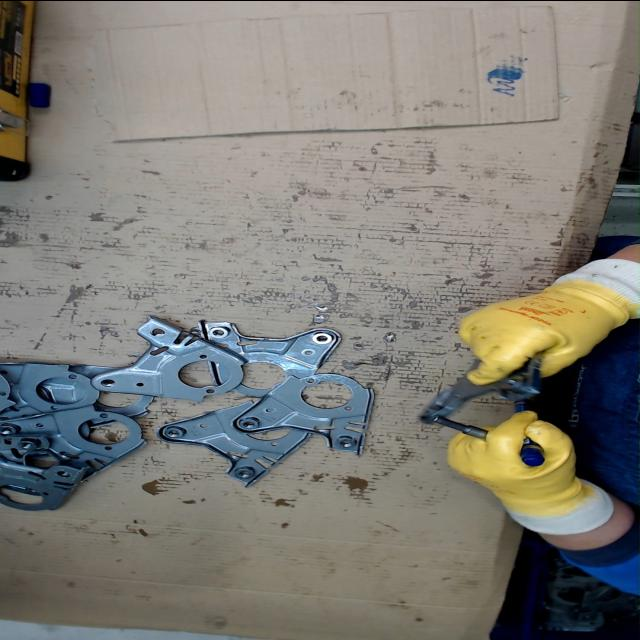hands: (455, 280, 621, 384), (446, 406, 582, 514)
